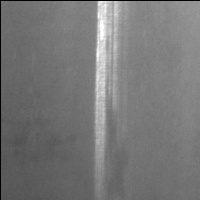scratches: (93, 1, 121, 169)
